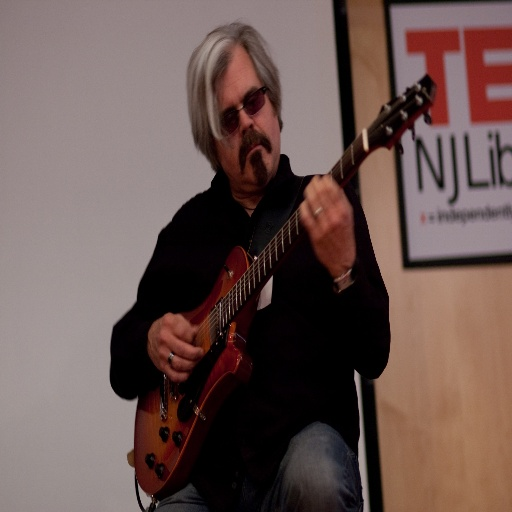hand: (137, 299, 207, 396), (299, 174, 355, 278)
